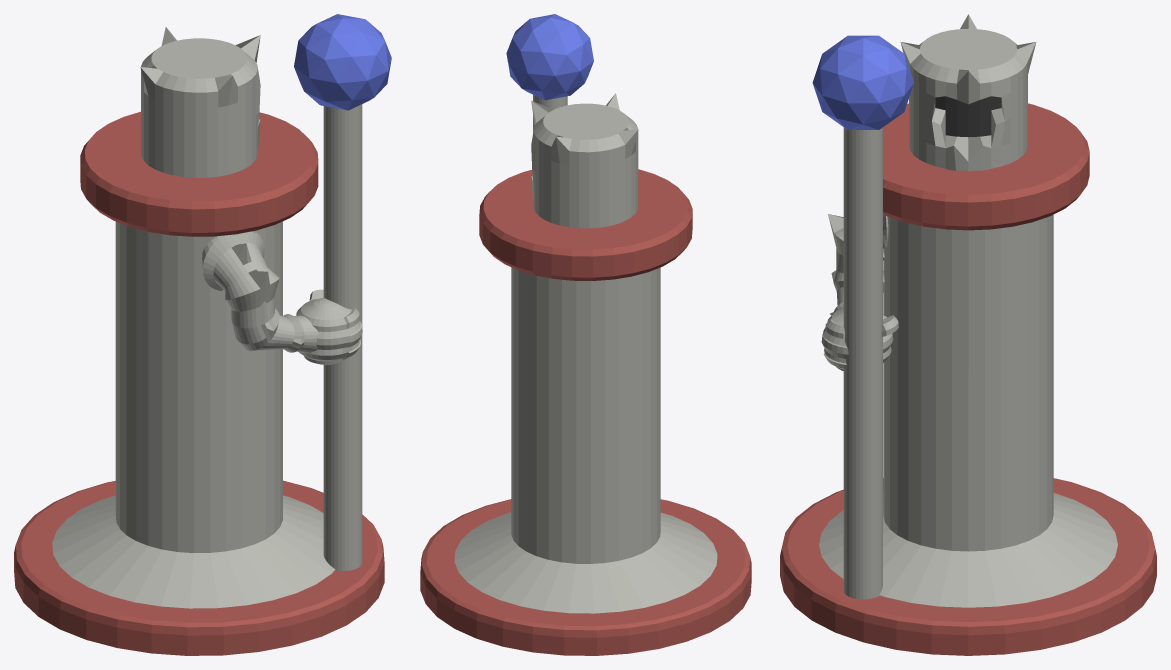
File: Turret.fbx
3 renders of one model, left to right at view 1: azimuth 30°, elevation 25°; view 2: azimuth 150°, elevation 25°; view 3: azimuth 270°, elevation 25°, orthographic. The views are drawn at different scales.
Visible parts, largest first — view 1: Body, Base, Neck?, Staff, Head, ARm, Icosphere, Hand; view 2: Body, Base, Neck?, Head, Icosphere; view 3: Body, Base, Staff, Neck?, Head, Icosphere, Hand, ARm.
Boxes of the visible parts, x1=… form: Body: x1=52, y1=221, x2=335, y2=608; Base: x1=14, y1=480, x2=384, y2=655; Neck?: x1=80, y1=111, x2=318, y2=236; Staff: x1=323, y1=104, x2=362, y2=570; Head: x1=140, y1=27, x2=260, y2=177; ARm: x1=202, y1=231, x2=318, y2=353; Icosphere: x1=294, y1=14, x2=391, y2=110; Hand: x1=296, y1=289, x2=362, y2=364; Body: x1=454, y1=267, x2=717, y2=613; Base: x1=420, y1=499, x2=751, y2=655; Neck?: x1=479, y1=169, x2=692, y2=280; Head: x1=531, y1=93, x2=638, y2=228; Icosphere: x1=506, y1=14, x2=593, y2=100; Body: x1=819, y1=214, x2=1117, y2=607; Base: x1=780, y1=478, x2=1156, y2=655; Staff: x1=843, y1=127, x2=882, y2=599; Neck?: x1=883, y1=103, x2=1089, y2=230; Head: x1=900, y1=14, x2=1036, y2=171; Icosphere: x1=812, y1=35, x2=913, y2=129; Hand: x1=821, y1=308, x2=898, y2=370; ARm: x1=828, y1=214, x2=888, y2=315.
Bounding box in the file's own units: 311 × 531 × 311.
